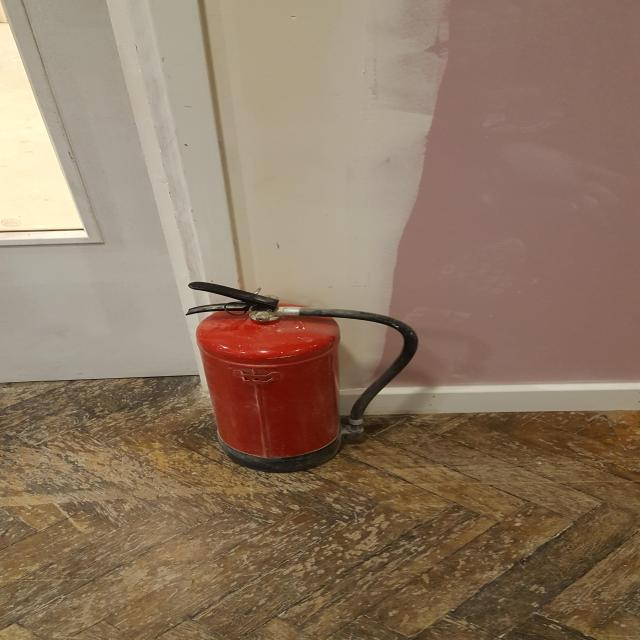fire_extinguisher: (176, 278, 424, 476)
